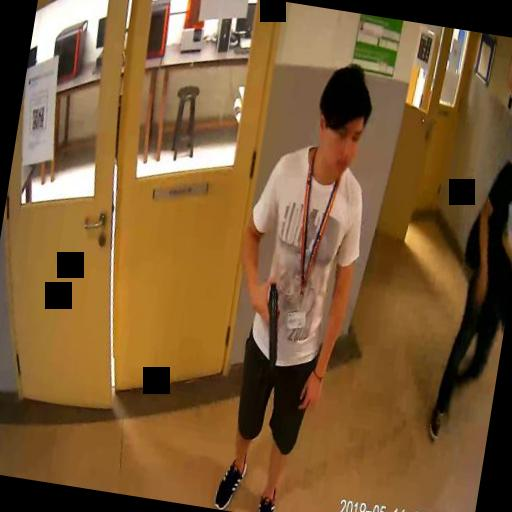Handgun: (251, 274, 289, 368)
